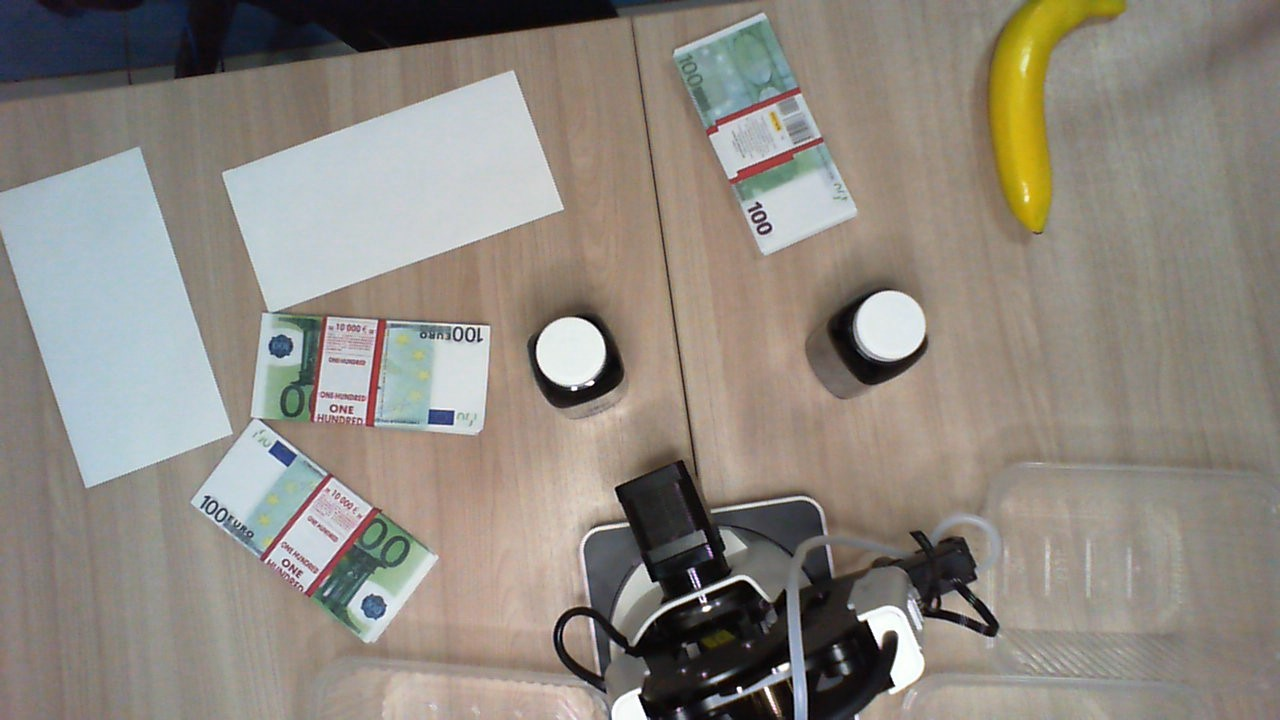banana: (985, 1, 1125, 235)
bottle: (526, 312, 625, 408), (827, 289, 928, 383)
convert: (222, 65, 560, 319), (1, 144, 238, 492)
money: (189, 420, 441, 646), (671, 13, 858, 252), (251, 310, 491, 437)
